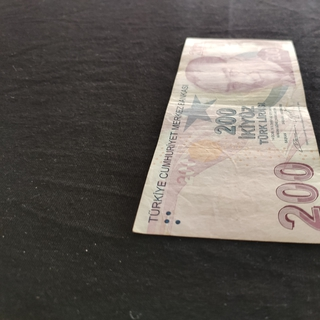200TLFront: (131, 37, 320, 245)
